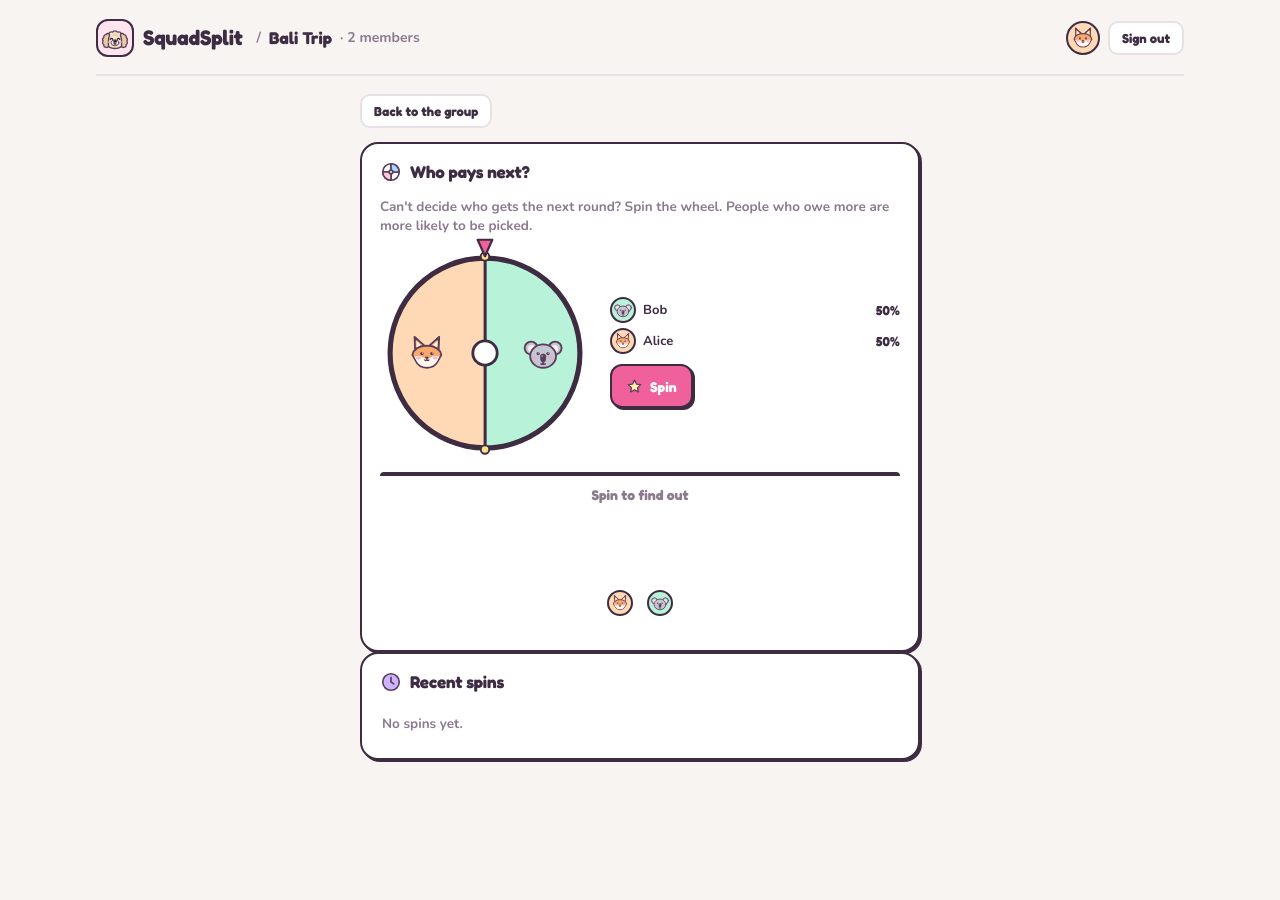
Test case: Wheel › spins to the server's winner and announces them when the spin and its wobble end
Later steps or results of the test are not shown.
Click the button "Spin": (651, 386) x1=610 y1=364 x2=693 y2=408
Wait 3600 ms
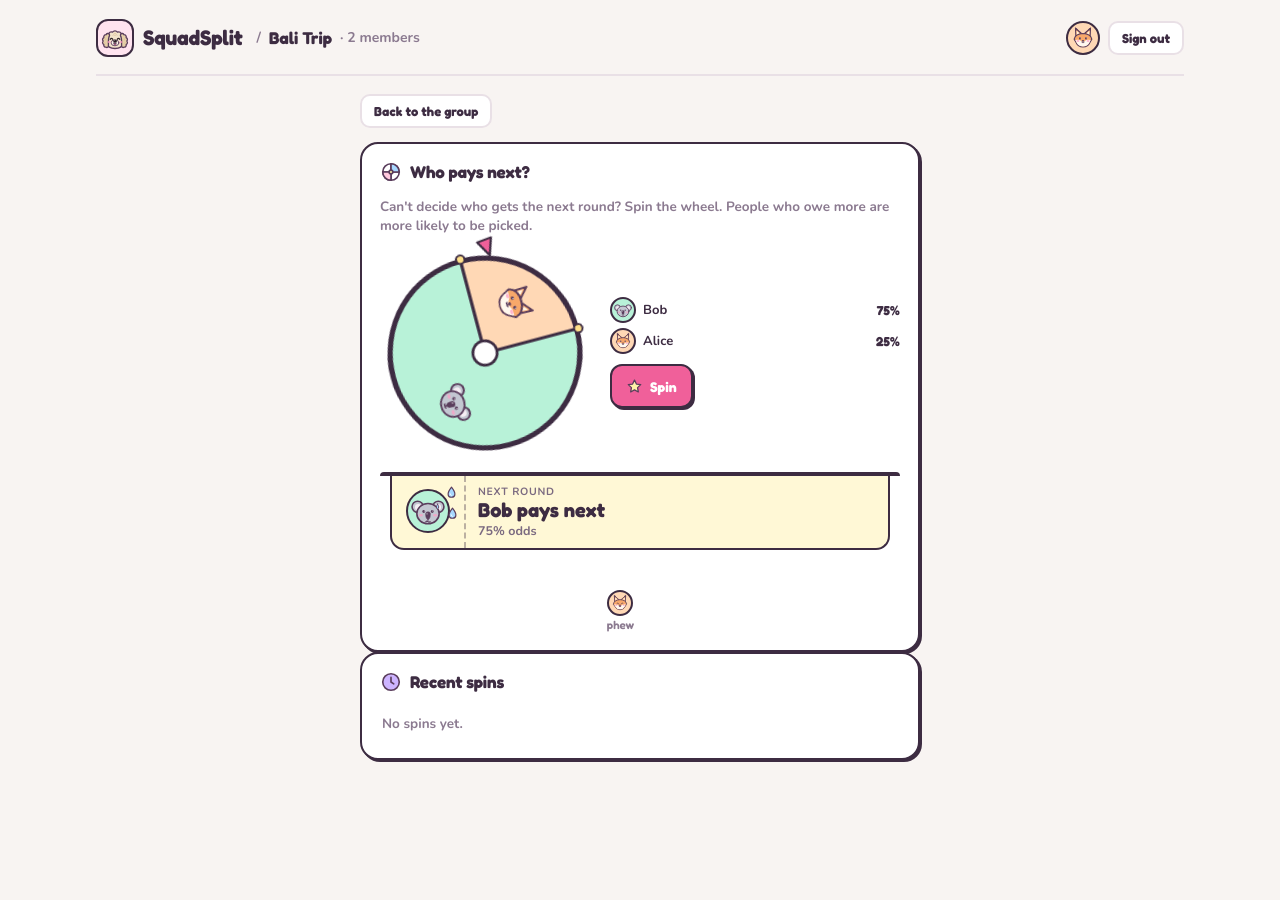
Result: the text "75%" is shown at x1=877 y1=301 x2=900 y2=320
Result: the text "25%" is shown at x1=876 y1=332 x2=900 y2=351
Result: the text "Bob pays next" is shown at x1=478 y1=499 x2=605 y2=522
